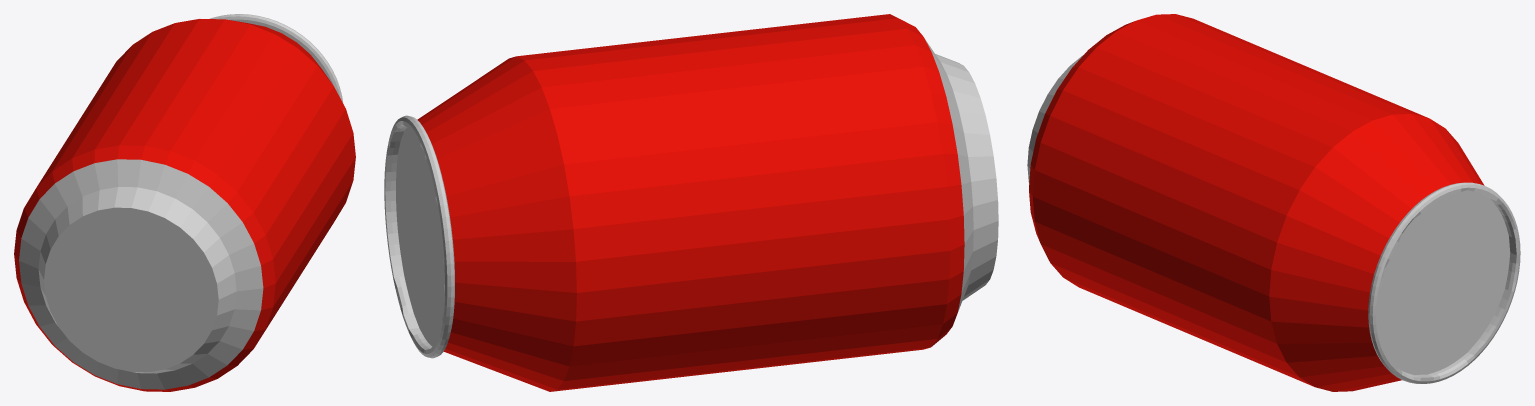
Rendered from Can.fbx.
3 renders of one model, left to right at view 1: azimuth 30°, elevation 25°; view 2: azimuth 150°, elevation 25°; view 3: azimuth 270°, elevation 25°, orthographic. The views are drawn at different scales.
Parts seen in each view (by area): view 1: Can; view 2: Can; view 3: Can.
Part boxes in pixels (left/top/right/bottom): Can: left=14, top=14, right=355, bottom=391; Can: left=384, top=14, right=998, bottom=391; Can: left=1027, top=14, right=1520, bottom=391.
Bounding box in the file's own units: 506 × 300 × 506.
